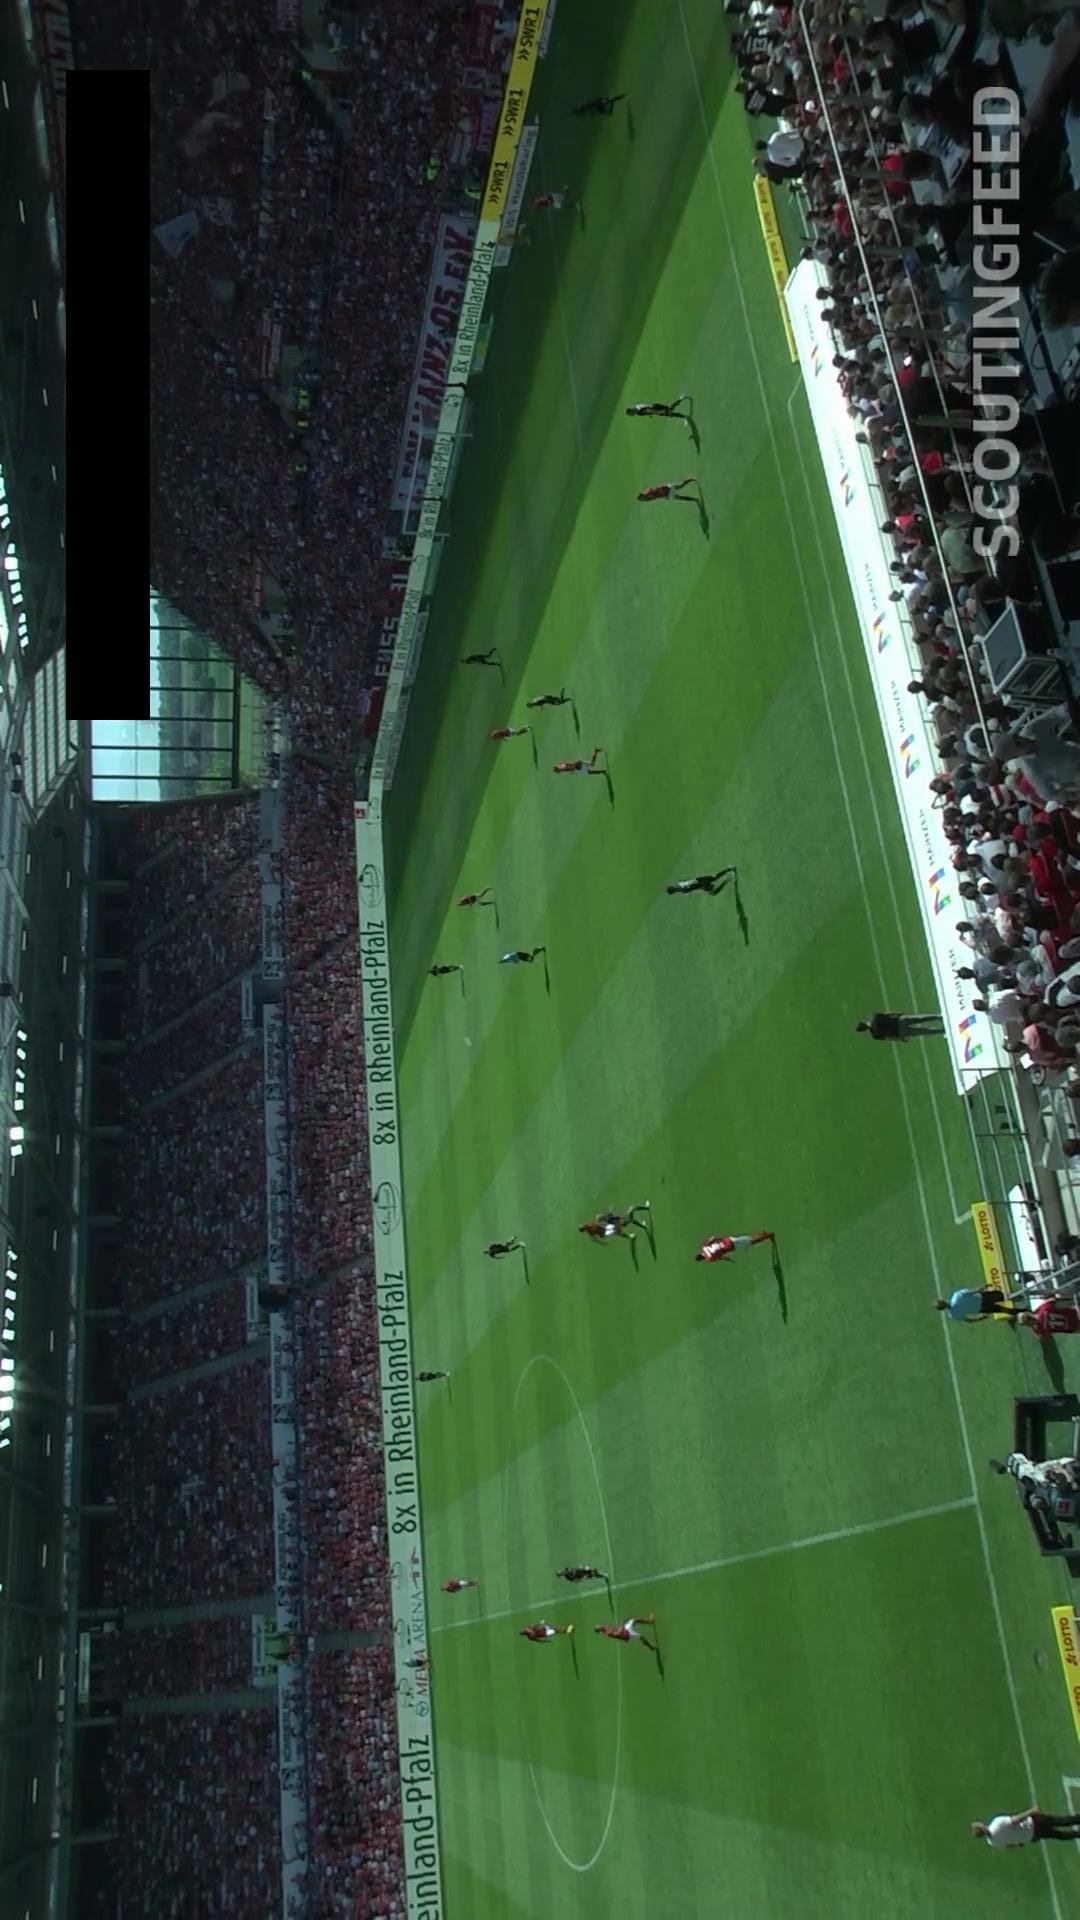ball: (461, 1035, 475, 1048)
goalkeeper: (486, 221, 532, 250)
player: (593, 1611, 659, 1653), (694, 1230, 774, 1264), (665, 865, 737, 897), (625, 395, 693, 424), (636, 477, 700, 505), (596, 1201, 650, 1232), (552, 748, 607, 777), (578, 1220, 637, 1246), (529, 184, 581, 213), (570, 92, 628, 117), (519, 1619, 574, 1642), (525, 684, 573, 709), (556, 1565, 610, 1584), (483, 1236, 525, 1259), (459, 647, 501, 669), (455, 887, 495, 909), (488, 725, 530, 742), (440, 1578, 479, 1594), (428, 963, 462, 977), (416, 1371, 449, 1382)
referee: (498, 946, 546, 966), (398, 1654, 435, 1672)
